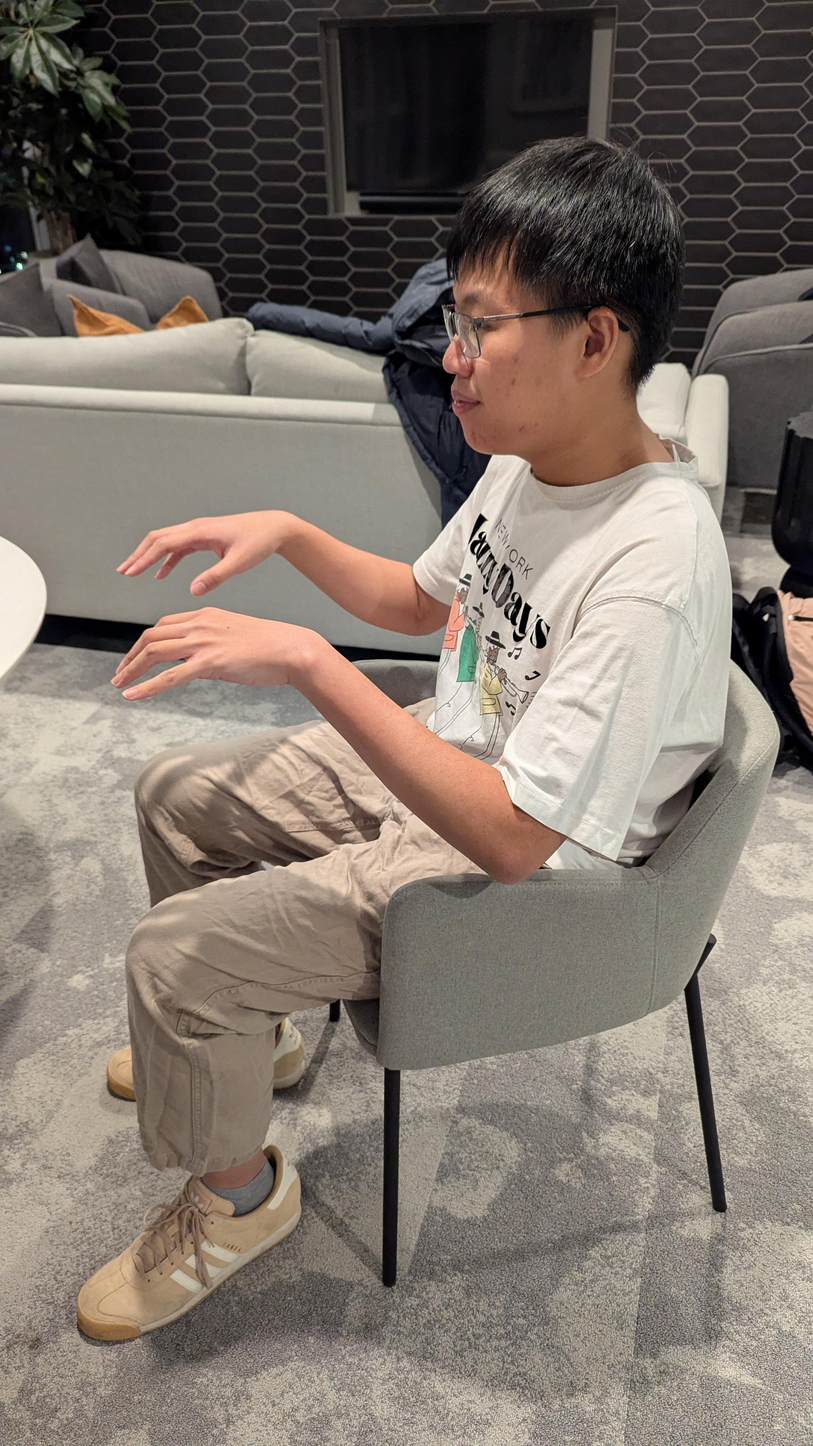GoodPosture: (75, 135, 736, 1340)
